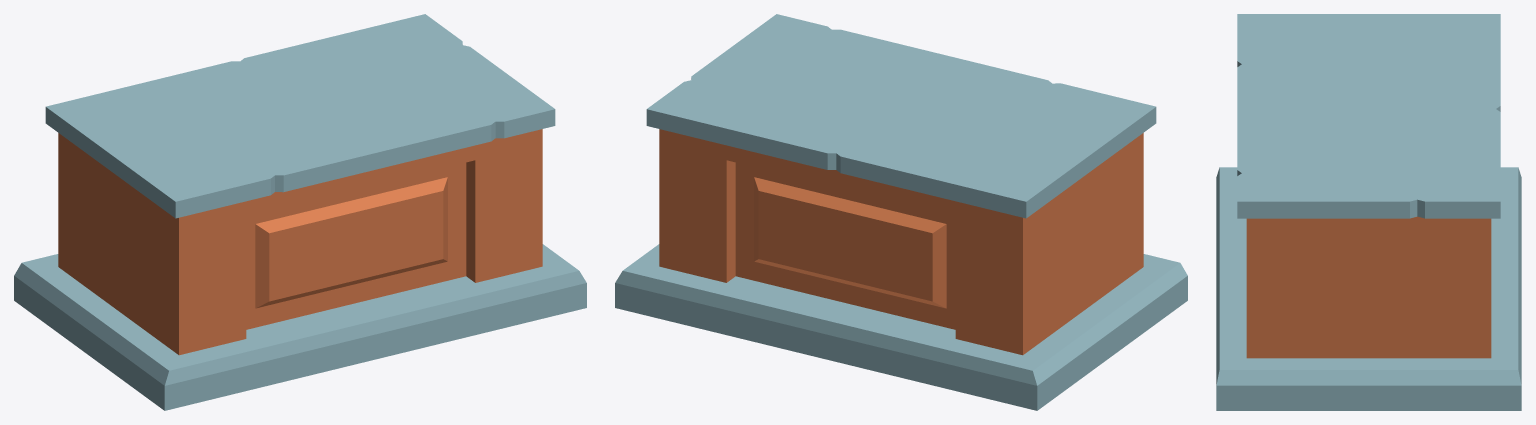
Rendered from altarWood.dae.
The picture shows the model from 3 angles, left to right: view 1: azimuth 30°, elevation 25°; view 2: azimuth 150°, elevation 25°; view 3: azimuth 270°, elevation 25°; orthographic projection.
Parts seen in each view (by area): view 1: altarWood; view 2: altarWood; view 3: altarWood.
Part boxes in pixels (left/top/right/bottom): altarWood: left=14, top=14, right=586, bottom=410; altarWood: left=615, top=14, right=1187, bottom=410; altarWood: left=1216, top=14, right=1521, bottom=410.
Size of the model in its own units: 1.06 by 0.47 by 0.6532.
